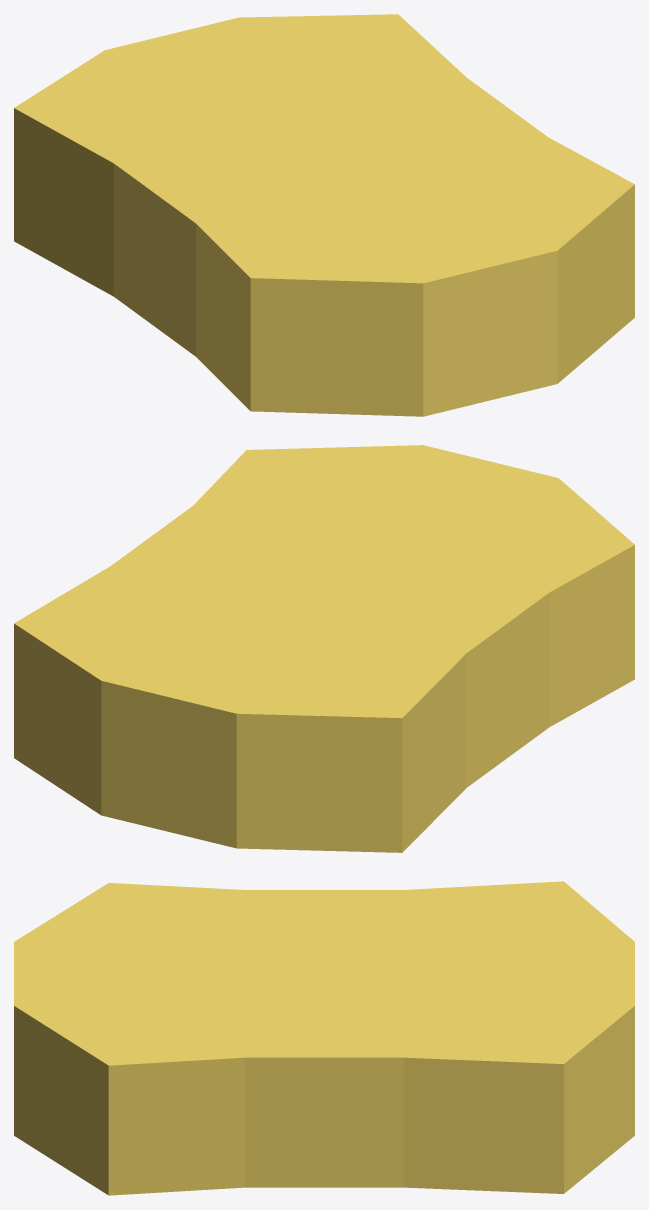
The model's file is F_Sponge_001.fbx.
3 renders of one model, top to bottom at view 1: azimuth 30°, elevation 25°; view 2: azimuth 150°, elevation 25°; view 3: azimuth 270°, elevation 25°, orthographic. The views are drawn at different scales.
Visible parts, largest first — view 1: F_Sponge_001; view 2: F_Sponge_001; view 3: F_Sponge_001.
Boxes of the visible parts, x1,y1,x2,y2 form: F_Sponge_001: (14, 14, 634, 416); F_Sponge_001: (14, 445, 634, 852); F_Sponge_001: (14, 881, 634, 1195).
Size of the model in its own units: 15.75 by 5.18 by 22.42.
